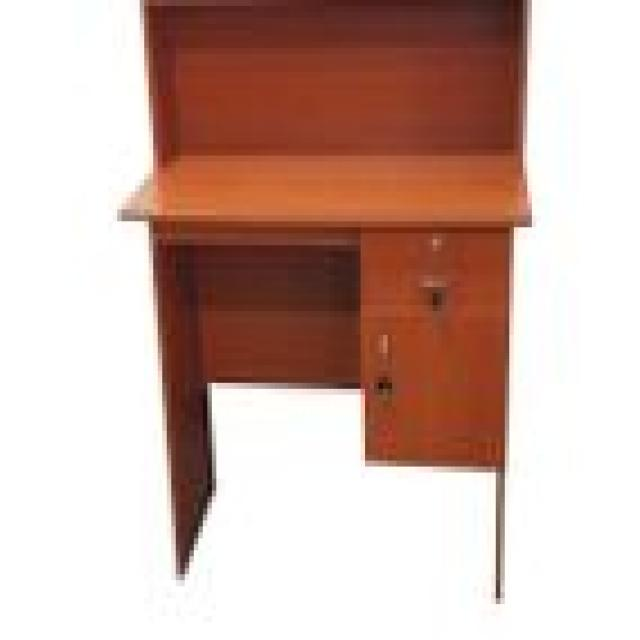others: (90, 6, 554, 610)
